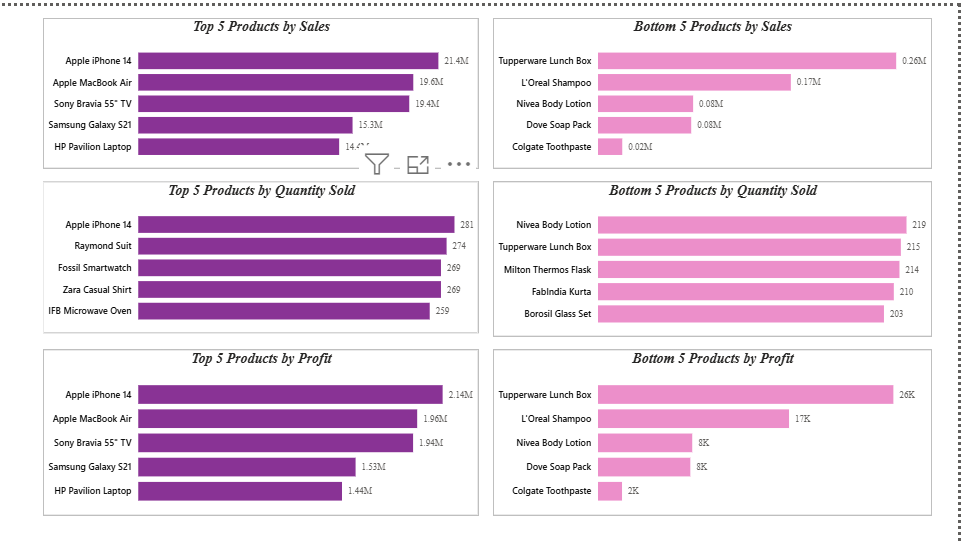

The dashboard page shown, as its layout file describes it:
{"tool":"powerbi","page":{"name":" Top/ Bottom 5 Analysis","canvas":[1280,720],"ordinal":0},"visuals":[{"type":"barChart","title":"Top 5 Products by Sales","fields":{"Category":["Dim Product.Product Name"],"Y":["Sum(Fact Table.Net Sales)"]},"box":[10,0,538.8,185],"z":0},{"type":"barChart","title":"Bottom 5 Products by Sales","fields":{"Category":["Dim Product.Product Name"],"Y":["Sum(Fact Table.Net Sales)"]},"box":[565,0,546.2,176.2],"z":1000},{"type":"barChart","title":"Top 5 Products by Quantity Sold","fields":{"Category":["Dim Product.Product Name"],"Y":["Sum(Fact Table.Units Sold)"]},"box":[11.2,200,537.5,198.8],"z":2000},{"type":"barChart","title":"Bottom 5 Products by Quantity Sold","fields":{"Category":["Dim Product.Product Name"],"Y":["Sum(Fact Table.Units Sold)"]},"box":[565,200,546.2,198.8],"z":3000},{"type":"barChart","title":"Top 5 Products by Profit","fields":{"Category":["Dim Product.Product Name"],"Y":["Sum(Fact Table.Profit)"]},"box":[11.2,421.2,537.5,198.8],"z":4000},{"type":"barChart","title":"Bottom 5 Products by Profit","fields":{"Category":["Dim Product.Product Name"],"Y":["Sum(Fact Table.Profit)"]},"box":[565,421.2,546.2,198.8],"z":5000}]}

Visuals, with their boxes in screenshot pixels (x1, y1, x2, y2), scaled from the page's 1280x720 canvas onto the 965x543 screenshot:
"Top 5 Products by Sales" barChart: (x1=8, y1=0, x2=414, y2=140)
"Bottom 5 Products by Sales" barChart: (x1=426, y1=0, x2=838, y2=133)
"Top 5 Products by Quantity Sold" barChart: (x1=8, y1=151, x2=414, y2=301)
"Bottom 5 Products by Quantity Sold" barChart: (x1=426, y1=151, x2=838, y2=301)
"Top 5 Products by Profit" barChart: (x1=8, y1=318, x2=414, y2=468)
"Bottom 5 Products by Profit" barChart: (x1=426, y1=318, x2=838, y2=468)
